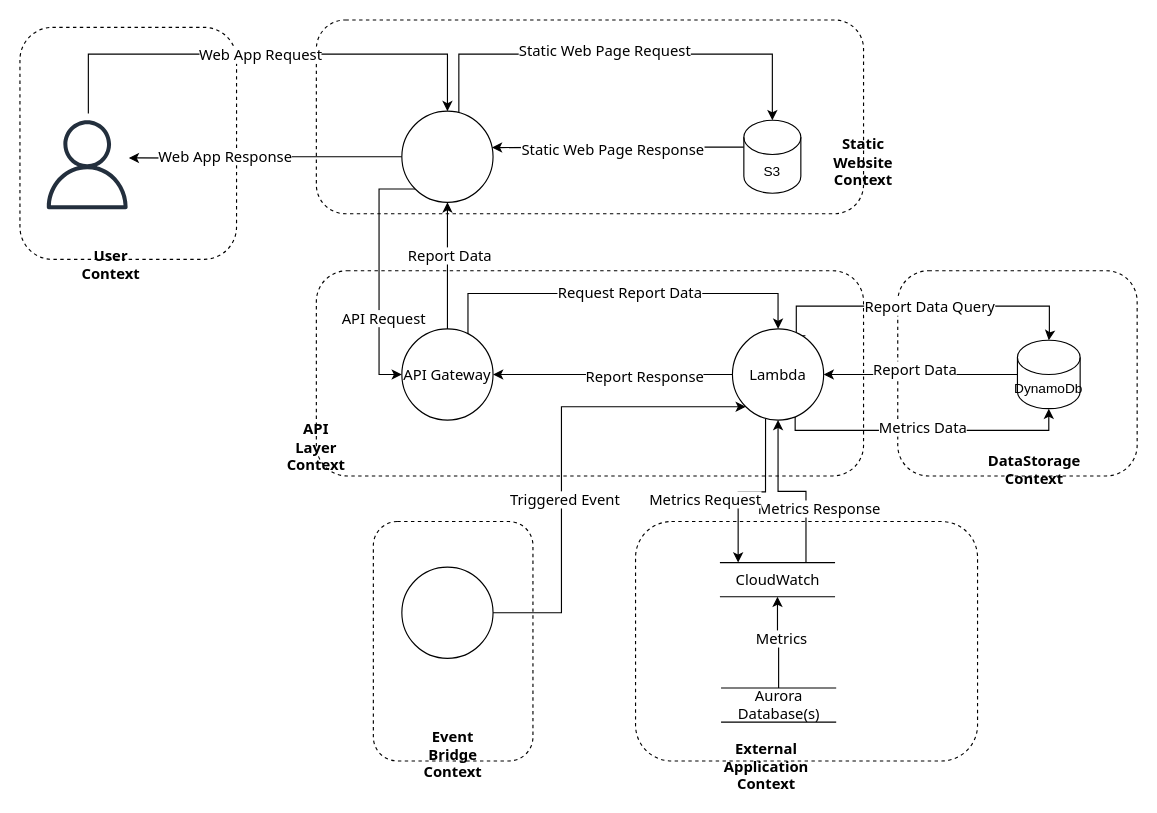
Some shapes in this 1157 by 813 pixel diagram are drawn without their labels. The centre of each missing label's shape, as x and y in pixels:
"CloudFront" belongs at pixel 447 156.
"Event Bridge Scheduled Task" belongs at pixel 447 612.
